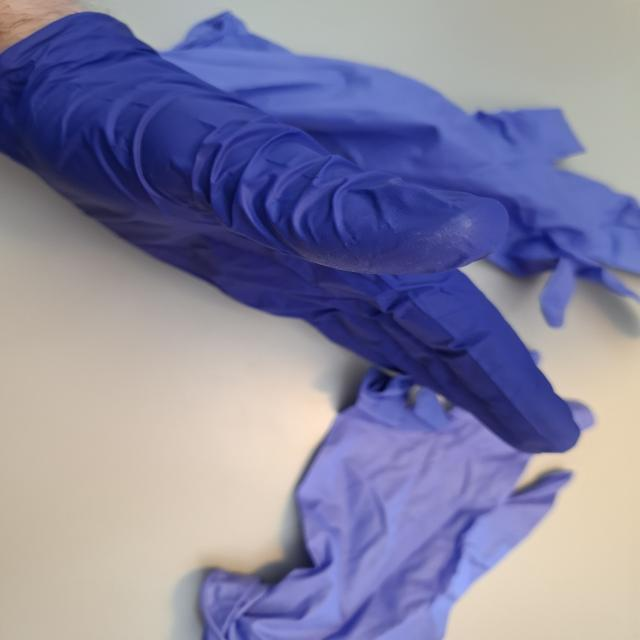glove_on: (0, 5, 586, 458)
